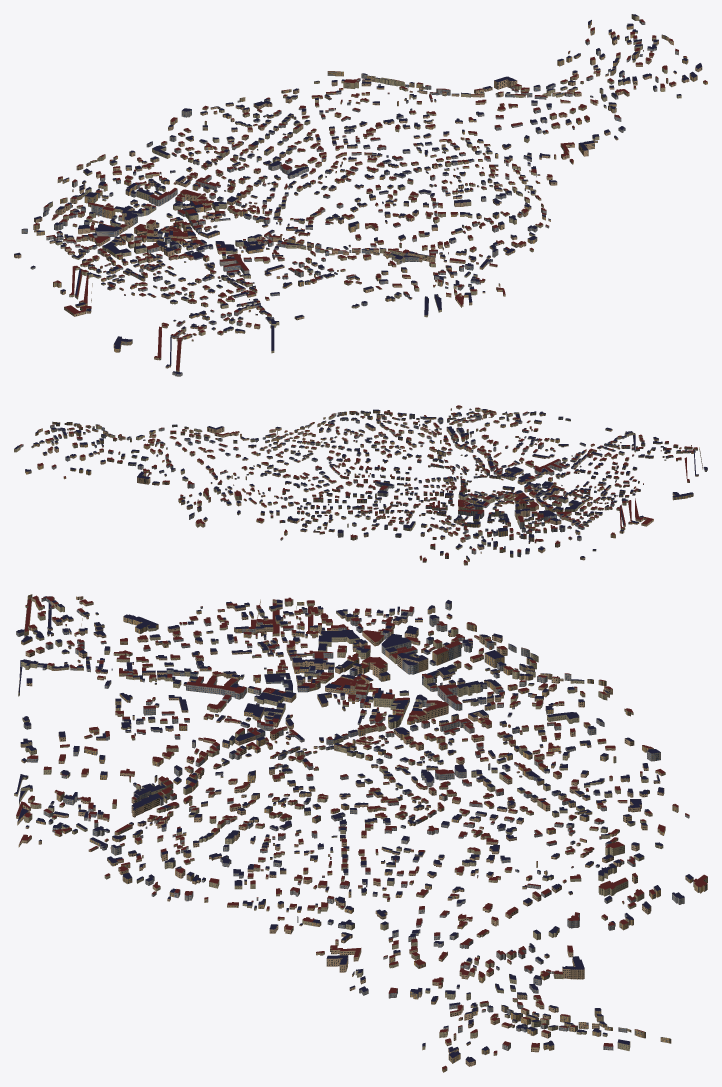
File: buildings.obj
3 views of the same model, one above another, from view 1: azimuth 30°, elevation 25°; view 2: azimuth 150°, elevation 25°; view 3: azimuth 270°, elevation 25° (orthographic). The views are drawn at different scales.
Bounding box in the file's own units: 1631 × 78 × 1024.
6 materials, 4 textured.
